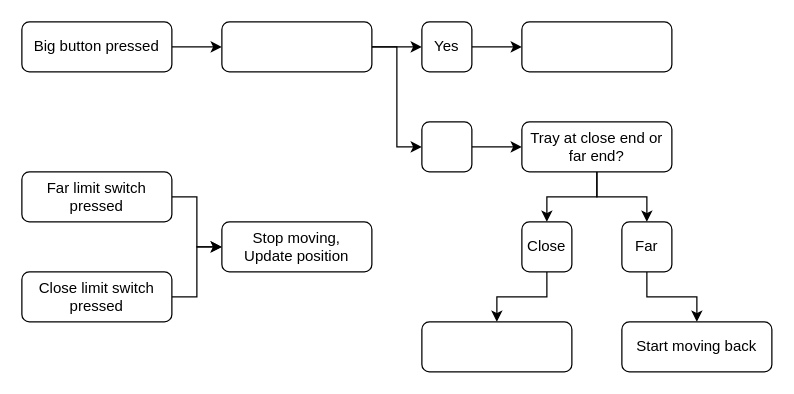
This 794x394 diagram has some shape labels left out. The box of each missing label's shape, as (x1, y1, x2, y2) in pixels:
Do Nothing: (521, 21, 672, 72)
No: (421, 121, 472, 172)
Start moving away: (421, 321, 572, 372)
Tray moving?: (221, 21, 372, 72)
